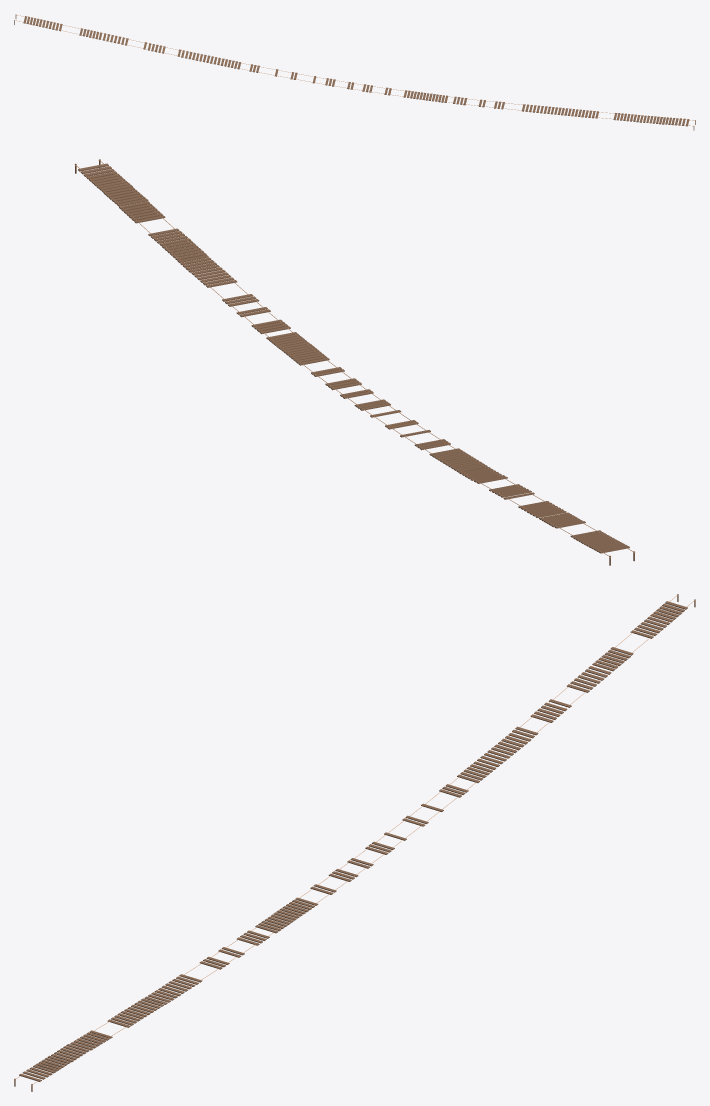
The model's file is Bridge001.fbx.
3 renders of one model, top to bottom at view 1: azimuth 30°, elevation 25°; view 2: azimuth 150°, elevation 25°; view 3: azimuth 270°, elevation 25°, orthographic. The views are drawn at different scales.
Parts seen in each view (by area): view 1: Wood; view 2: Wood; view 3: Wood.
Part boxes in pixels (x1=…): Wood: x1=14, y1=14, x2=695, y2=130; Wood: x1=74, y1=159, x2=635, y2=565; Wood: x1=14, y1=594, x2=695, y2=1091.
Size of the model in its own units: 103 by 15.4 by 78.87.
